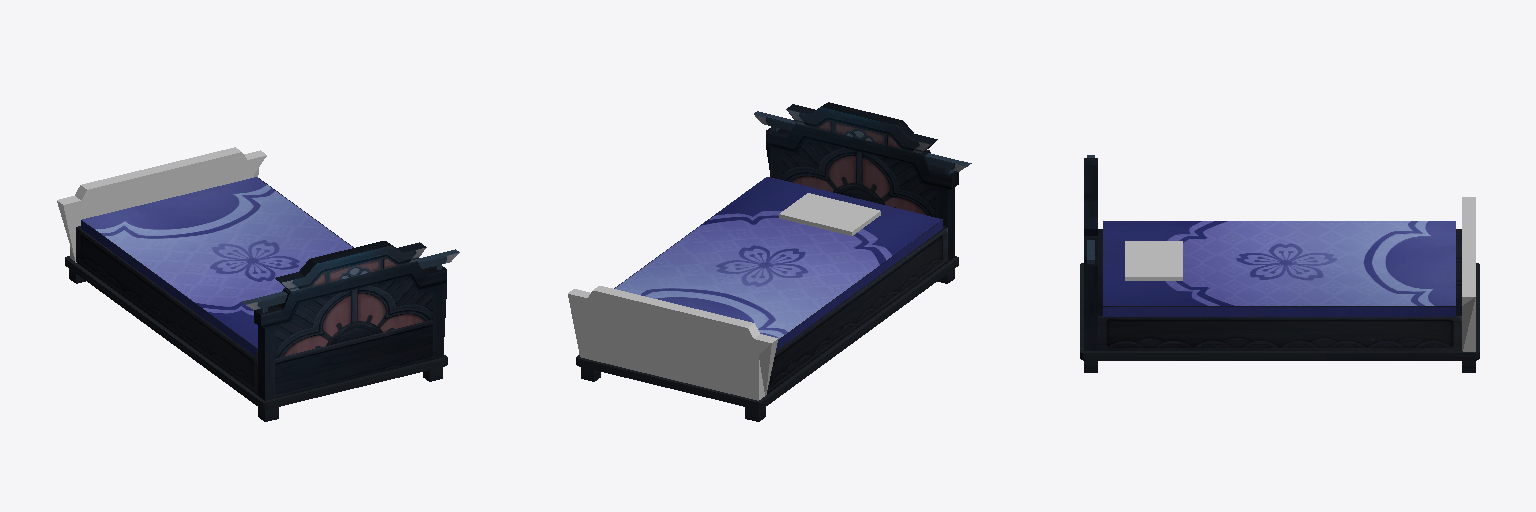
3 renders of one model, left to right at view 1: azimuth 30°, elevation 25°; view 2: azimuth 150°, elevation 25°; view 3: azimuth 270°, elevation 25°, orthographic.
Visible parts, largest first — view 1: Cube; view 2: Cube; view 3: Cube.
Boxes of the visible parts, <box> form: Cube: <box>57,147,459,421</box>; Cube: <box>568,102,971,421</box>; Cube: <box>1080,155,1479,372</box>.
Bounding box in the file's own units: 2.93 × 1.9 × 4.71.
6 materials, 4 textured.